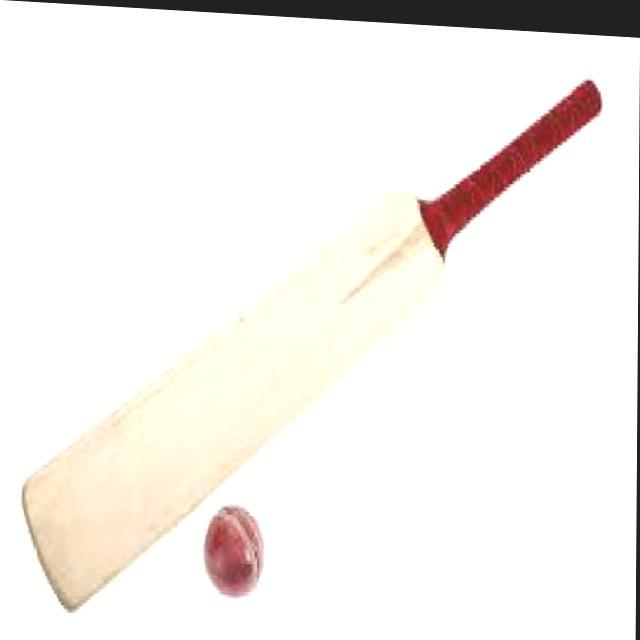-: (204, 502, 274, 600)
